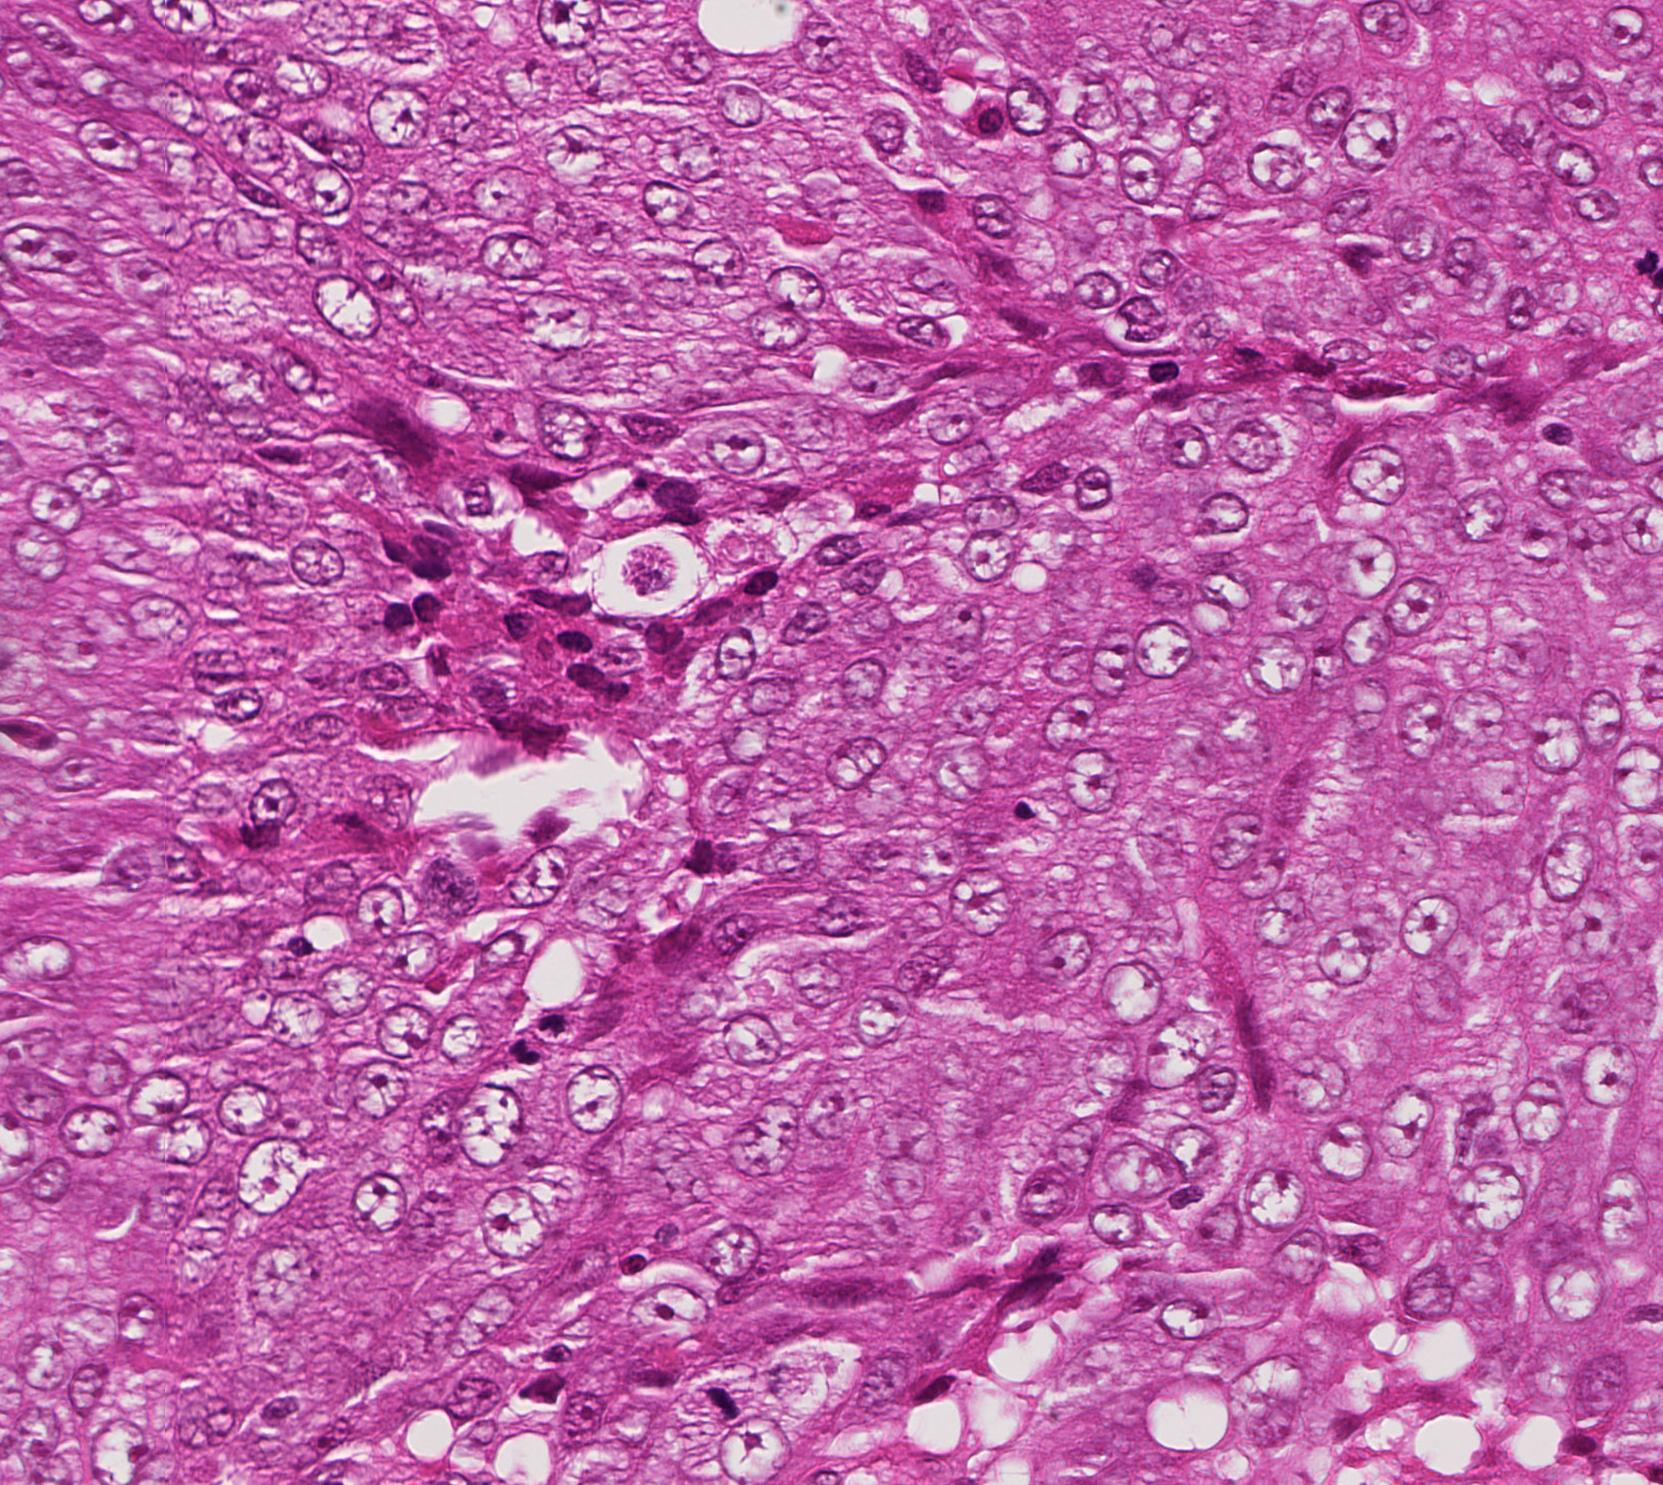mitosis: (518, 1003, 576, 1064), (697, 1375, 757, 1433), (1621, 231, 1663, 291)
